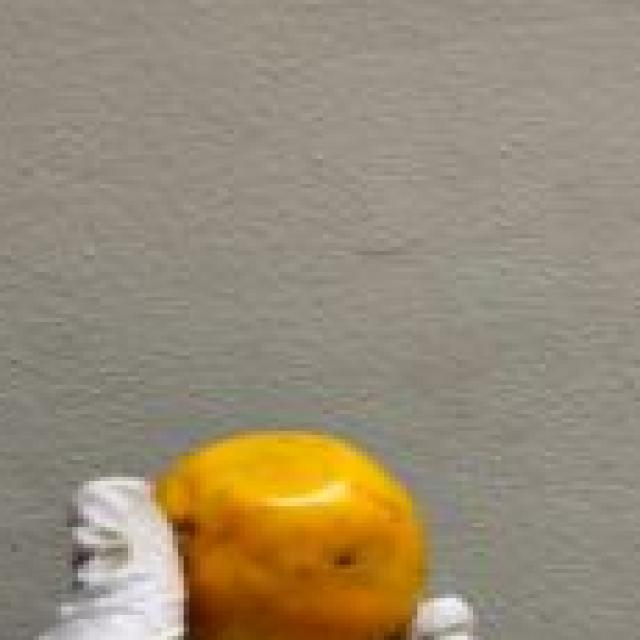Bad_Orange-0-1 day: (150, 431, 423, 640)
